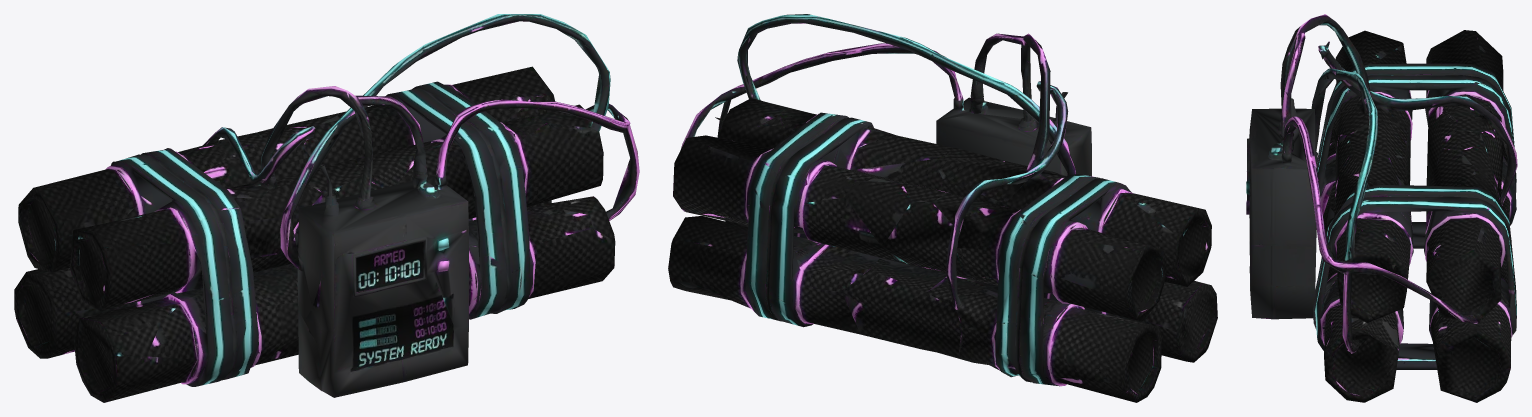
The picture shows the model from 3 angles, left to right: view 1: azimuth 30°, elevation 25°; view 2: azimuth 150°, elevation 25°; view 3: azimuth 270°, elevation 25°; orthographic projection. The views are drawn at different scales.
Size of the model in its own units: 1.9 by 0.9834 by 0.9189.
1 material, 1 textured.
